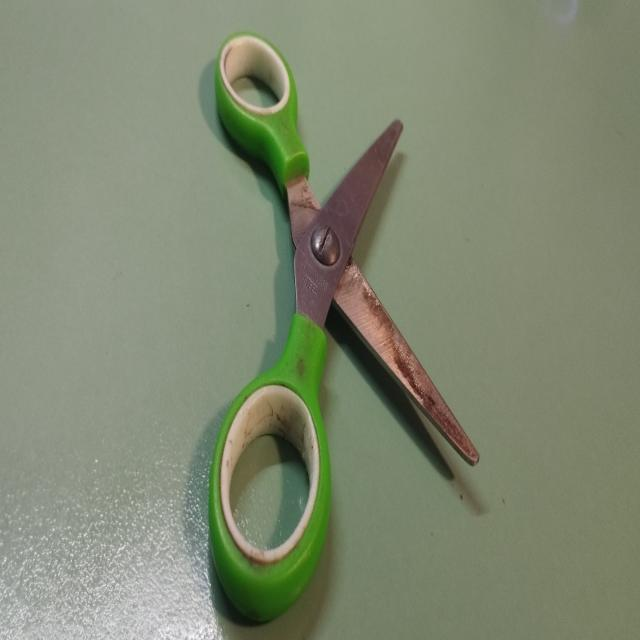tesoura: (202, 23, 484, 636)
